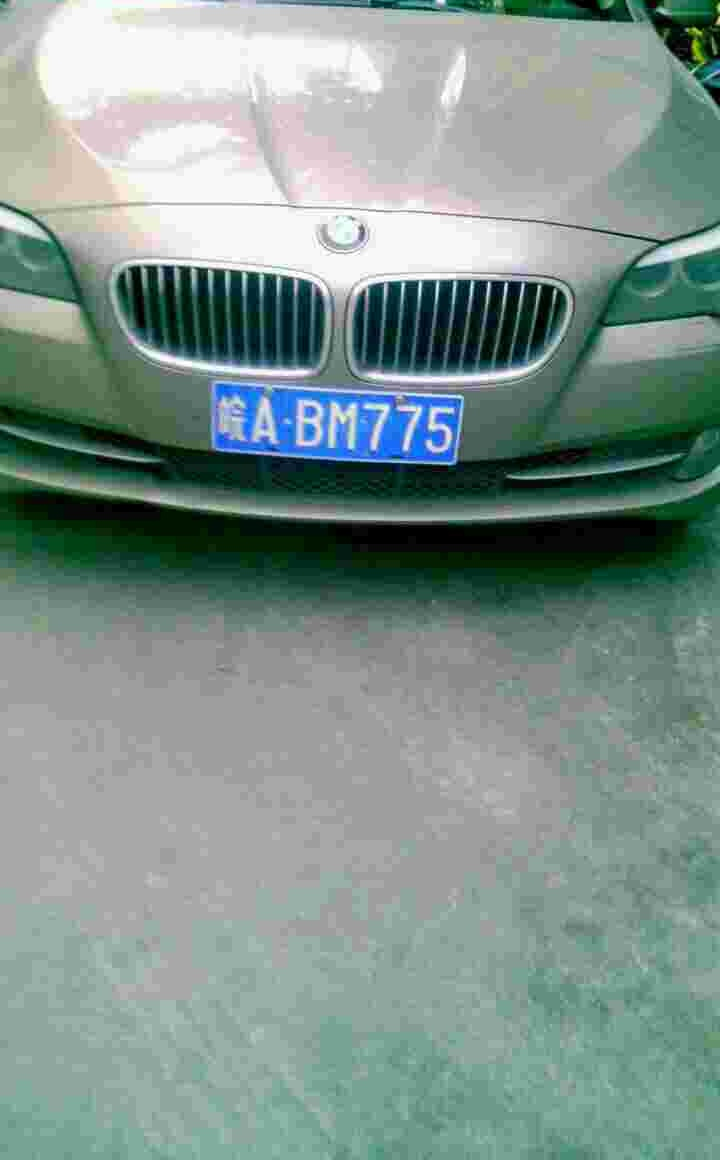license_plate: (215, 387, 464, 462)
